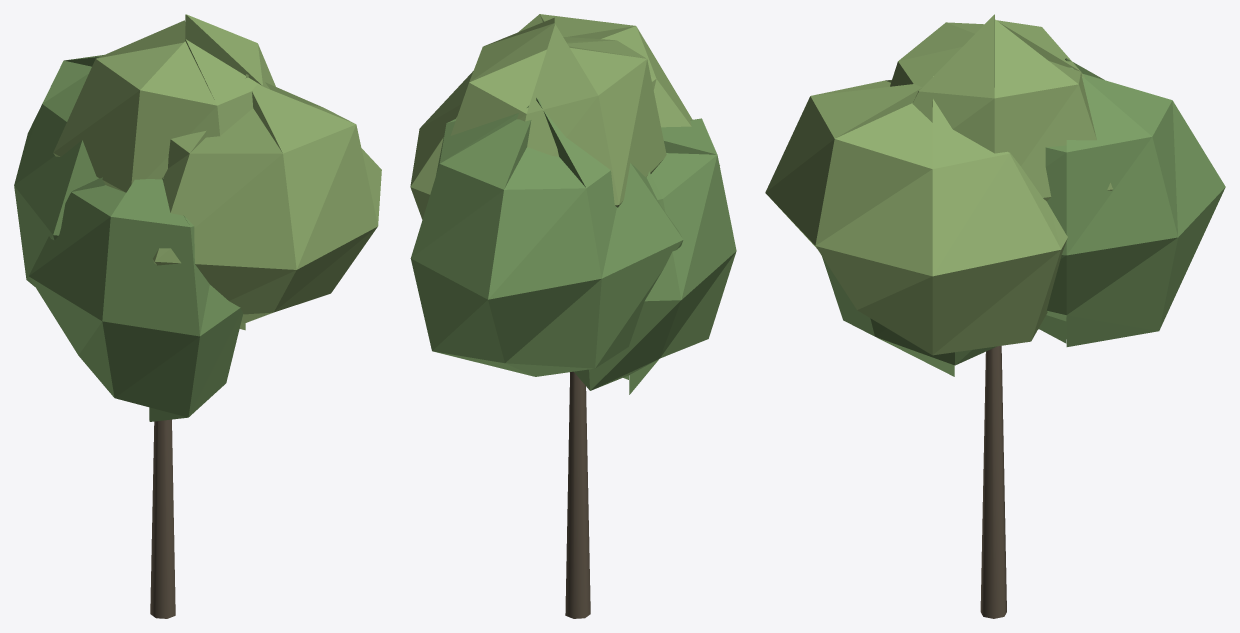
The model's file is oak_tree_variant_03_lod1.glb.
The picture shows the model from 3 angles, left to right: view 1: azimuth 30°, elevation 25°; view 2: azimuth 150°, elevation 25°; view 3: azimuth 270°, elevation 25°; orthographic projection. The views are drawn at different scales.
Parts seen in each view (by area): view 1: static_leaf_light, static_leaf_oak, trunk; view 2: static_leaf_oak, static_leaf_light, trunk; view 3: static_leaf_light, static_leaf_oak, trunk.
Part boxes in pixels (left/top/right/bottom): static_leaf_light: left=53, top=14, right=381, bottom=330; static_leaf_oak: left=14, top=55, right=243, bottom=421; trunk: left=150, top=419, right=175, bottom=618; static_leaf_oak: left=410, top=98, right=736, bottom=394; static_leaf_light: left=410, top=14, right=719, bottom=219; trunk: left=565, top=371, right=590, bottom=618; static_leaf_light: left=765, top=14, right=1112, bottom=355; static_leaf_oak: left=822, top=58, right=1225, bottom=376; trunk: left=980, top=346, right=1006, bottom=618.
Bounding box in the file's own units: 5.4 × 9.94 × 6.79.
